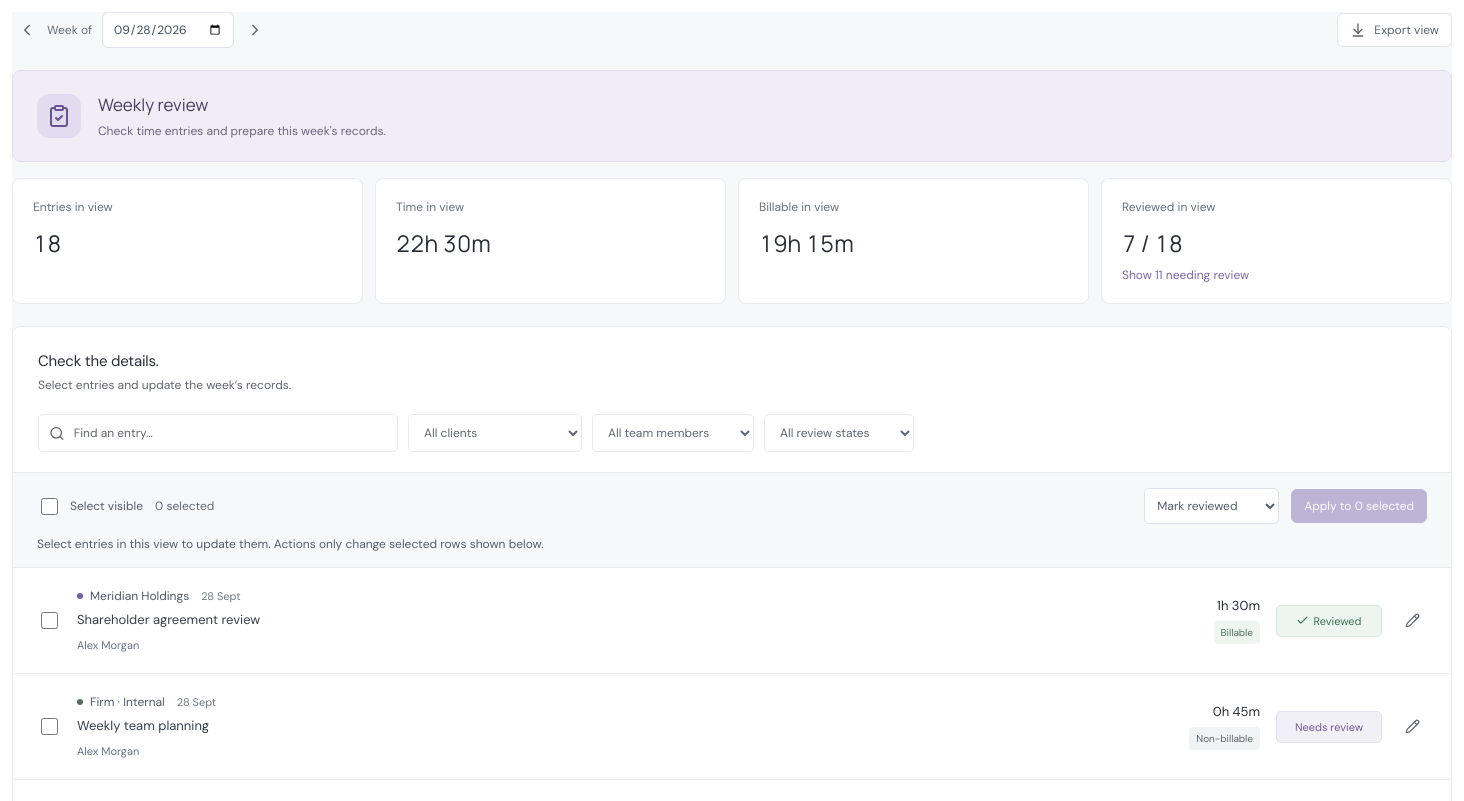
Test: Needs-review shortcut › follows the selection rules and announces deselected rows
Click the checkbox named "Select Shareholder agreement review" at (50, 620), box [41,612,58,628]
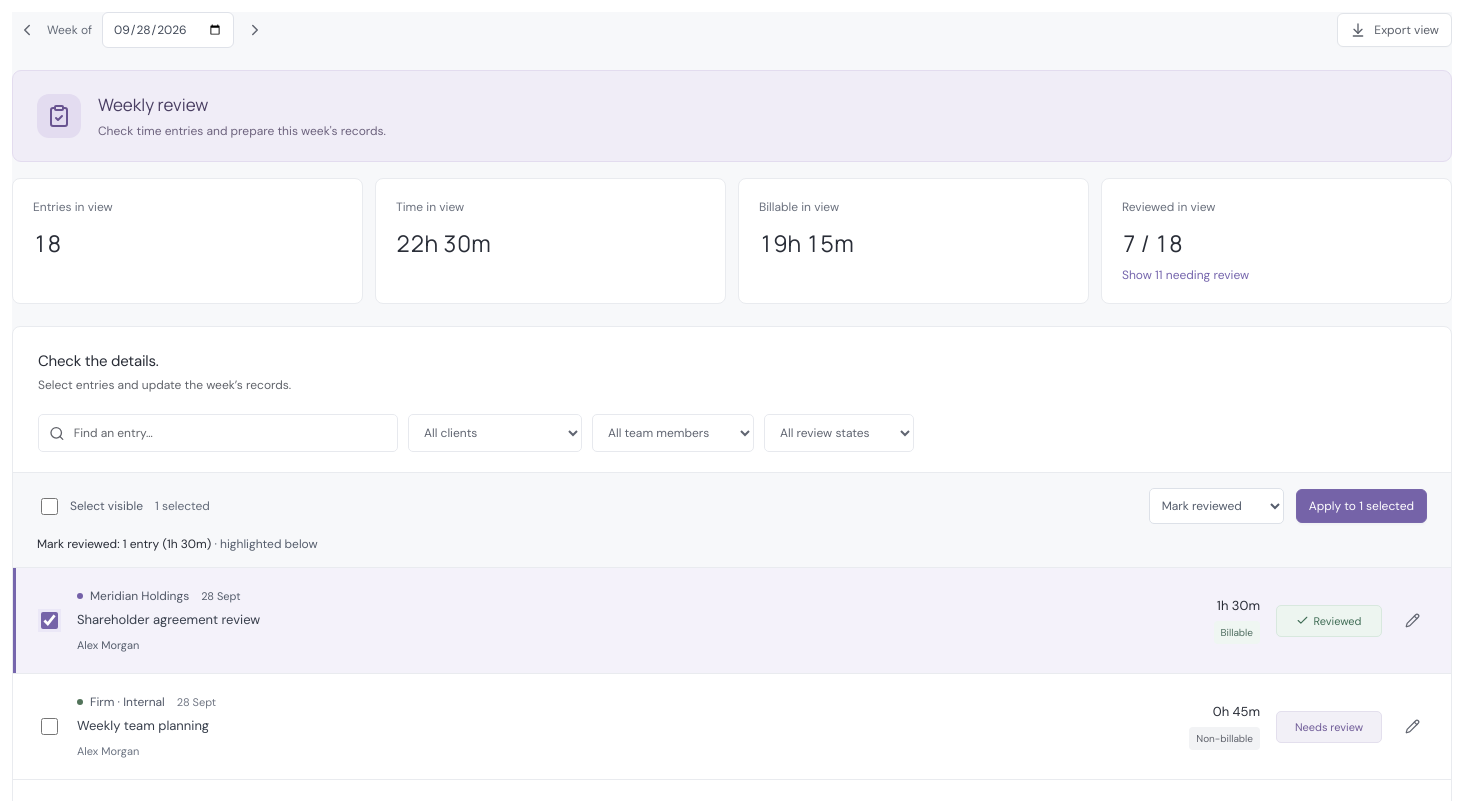
Click the button "Show 11 needing review" at (1186, 275), box [1122,267,1249,283]
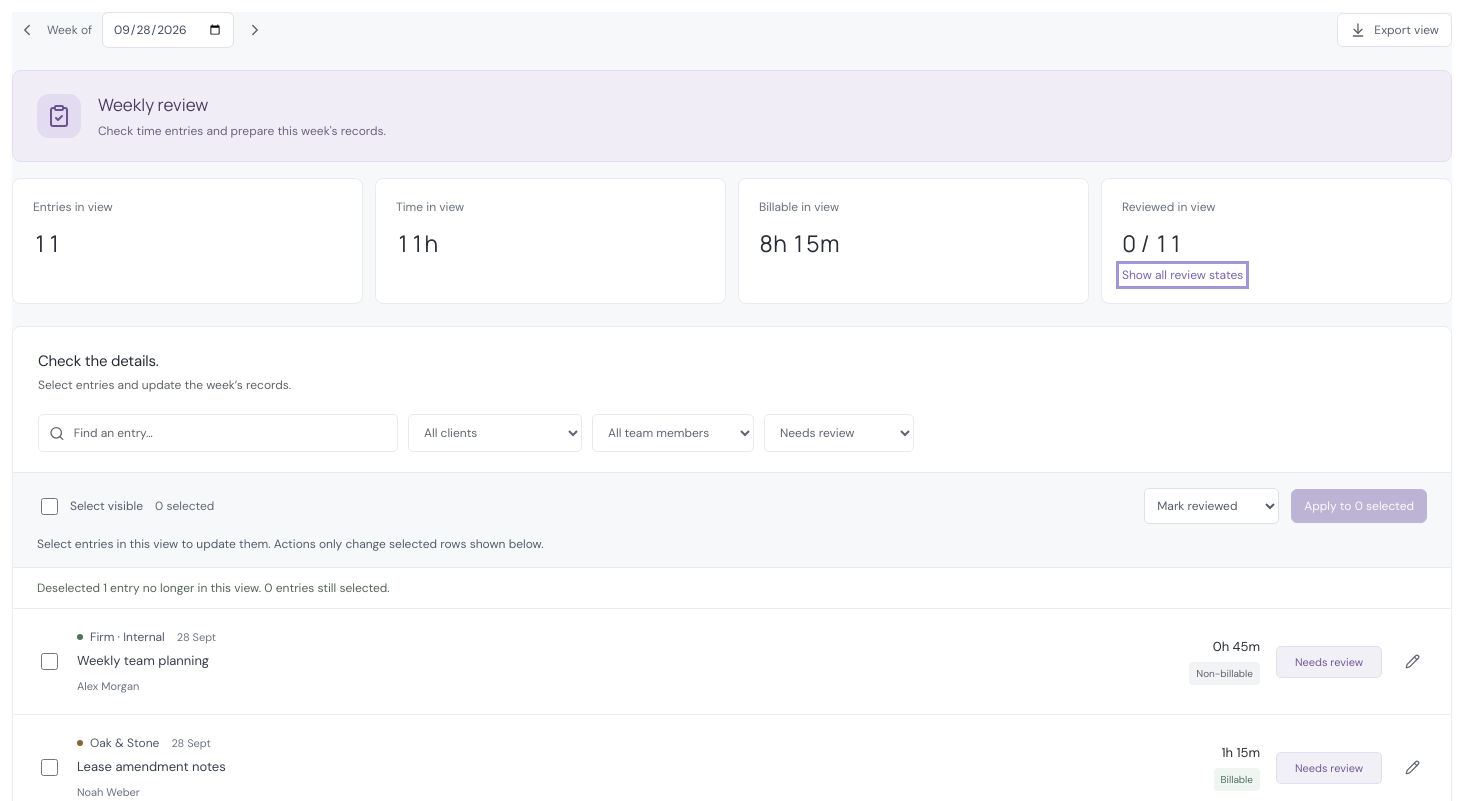
Check: the text "Deselected 1 entry no longer in this view. 0 entries still selected." is shown, box [37,580,390,596]
